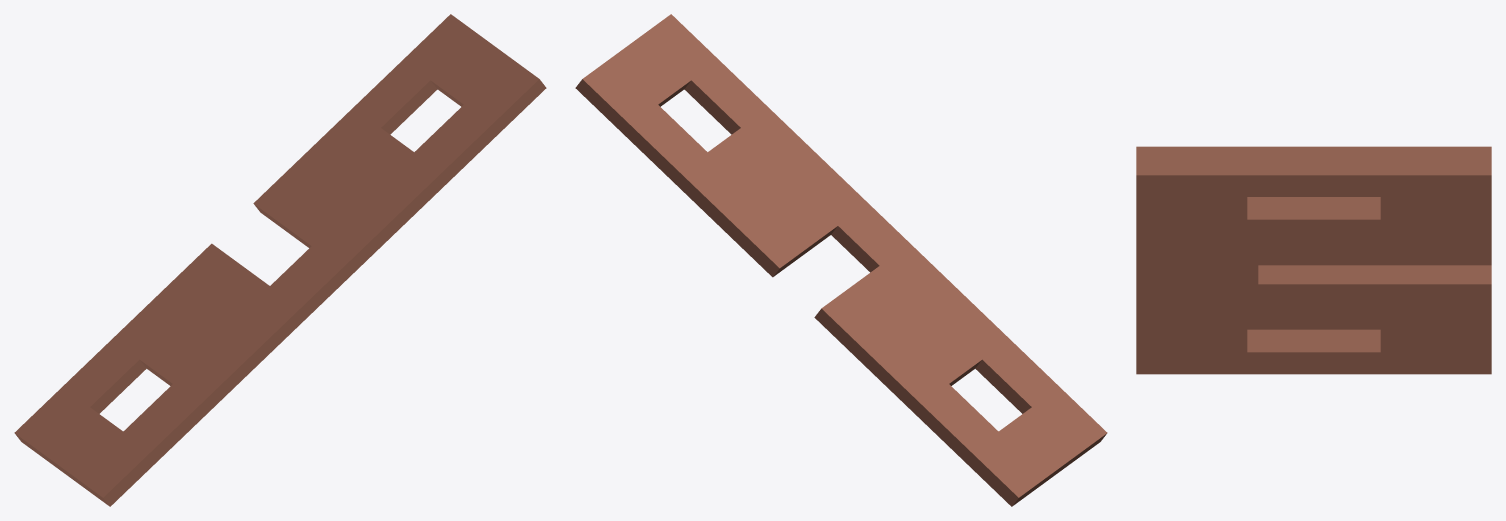
Rendered from SARM_SAR_Building_RUB_001_Wall_S_00.glb.
3 views of the same model, side by side, from view 1: azimuth 30°, elevation 25°; view 2: azimuth 150°, elevation 25°; view 3: azimuth 270°, elevation 25° (orthographic). The views are drawn at different scales.
Visible parts, largest first — view 1: SAR_Building_RUB_001_Wall_S_00.001; view 2: SAR_Building_RUB_001_Wall_S_00.001; view 3: SAR_Building_RUB_001_Wall_S_00.001.
Boxes of the visible parts, x1,y1,x2,y2 form: SAR_Building_RUB_001_Wall_S_00.001: (14,14,546,506); SAR_Building_RUB_001_Wall_S_00.001: (575,14,1107,506); SAR_Building_RUB_001_Wall_S_00.001: (1136,146,1491,374).
Size of the model in its own units: 9.23 by 6.43 by 3.2.
